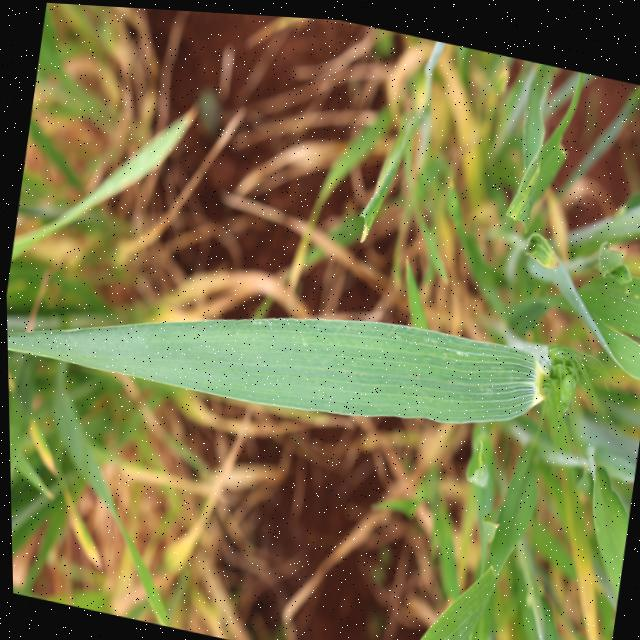healthy_wheat: (4, 216, 640, 503)
